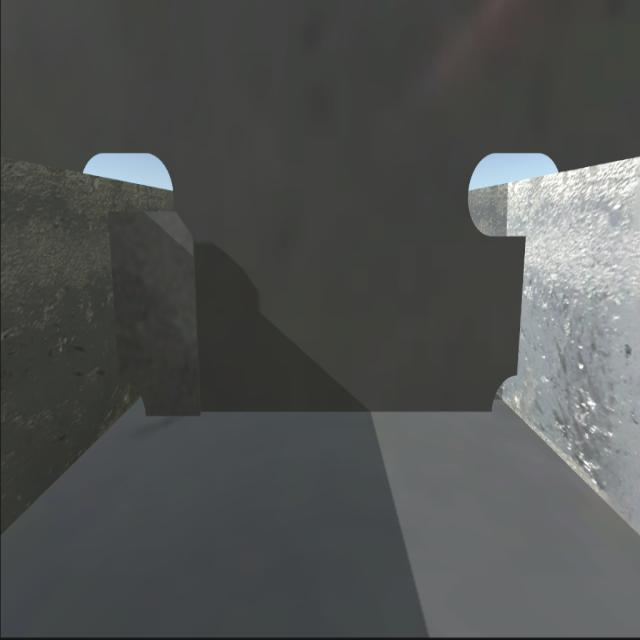fillet_hole: (488, 370, 518, 412), (120, 377, 148, 416)
fillet_yong_jeop_jang: (153, 406, 496, 418)
longi_yong_jeop_jang: (108, 206, 123, 374), (516, 239, 528, 359)
plate_CP03: (108, 210, 208, 418)
